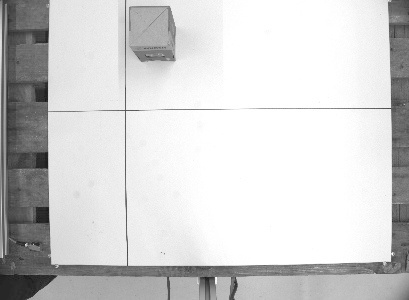b4: (126, 2, 178, 63)
